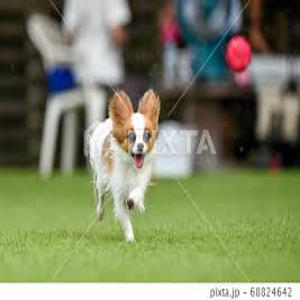yell: (88, 88, 161, 243)
